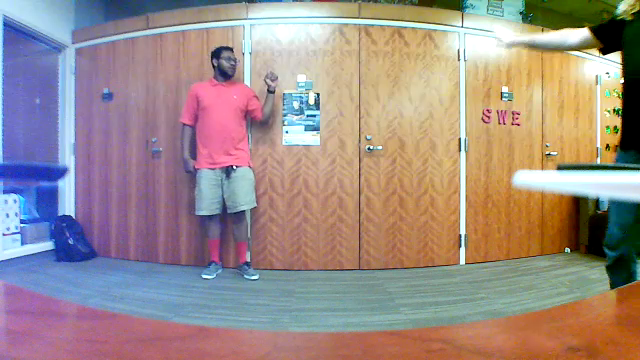up: (262, 60, 280, 98)
